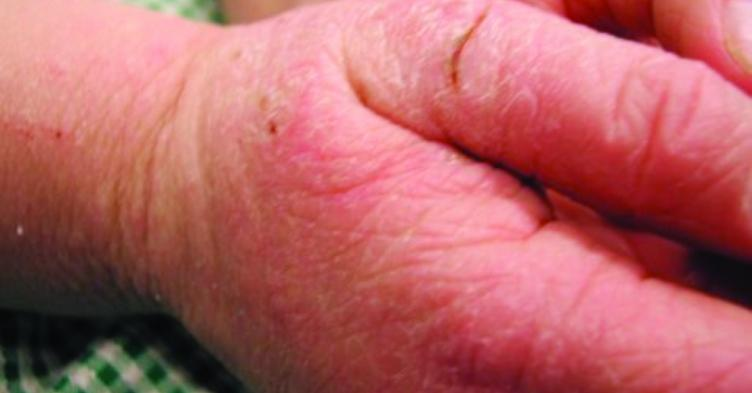Diseased: (201, 1, 587, 393)
